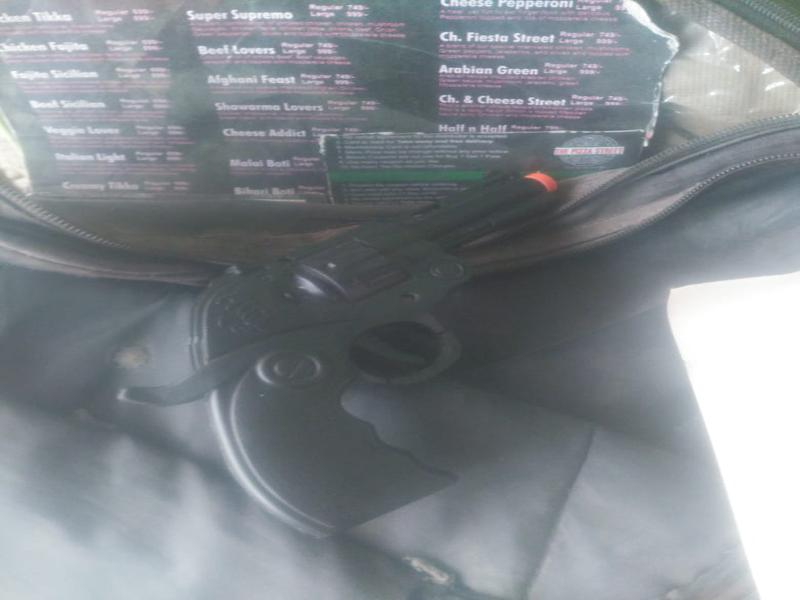gun: (115, 167, 633, 534)
